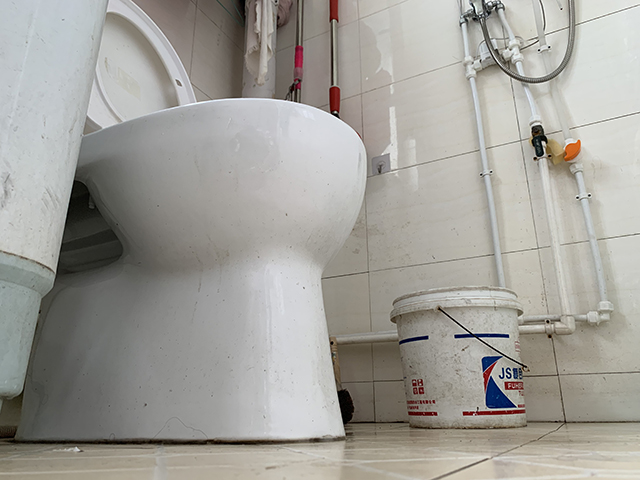closestool: (10, 1, 369, 443)
